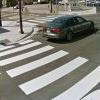Crosswalk: (2, 41, 87, 100)
